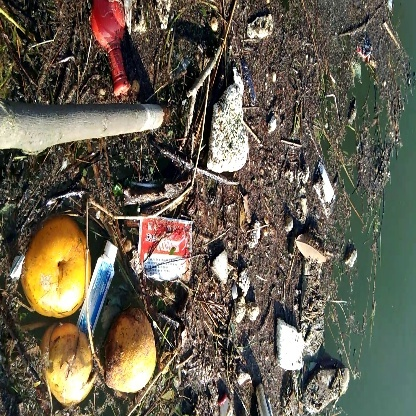ball: (20, 213, 93, 320)
bottle: (88, 2, 140, 97)
plastic-bag: (136, 213, 200, 288)
